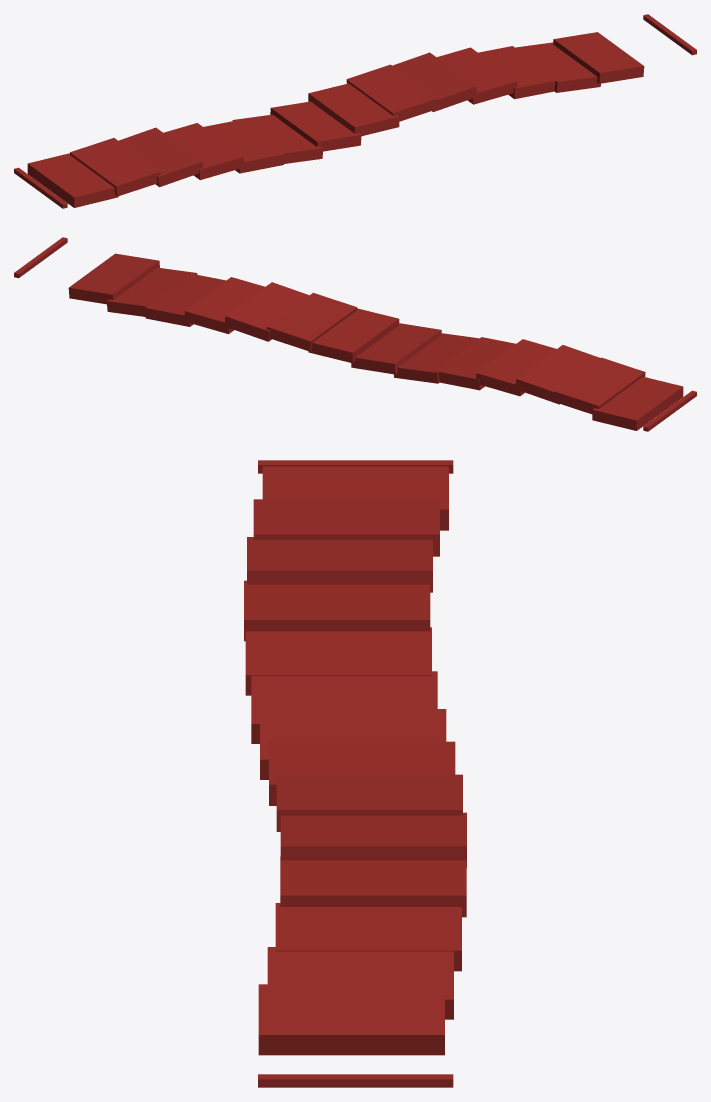
File: Red_scarf.obj
The picture shows the model from 3 angles, top to bottom: view 1: azimuth 30°, elevation 25°; view 2: azimuth 150°, elevation 25°; view 3: azimuth 270°, elevation 25°; orthographic projection. The views are drawn at different scales.
Visible parts, largest first — view 1: Red_scarf; view 2: Red_scarf; view 3: Red_scarf.
Part boxes in pixels (x1,y1,x2,y2): Red_scarf: (14,14,696,208); Red_scarf: (14,237,696,431); Red_scarf: (244,460,466,1087).
Size of the model in its own units: 1.57 by 0.0654 by 0.2395.
